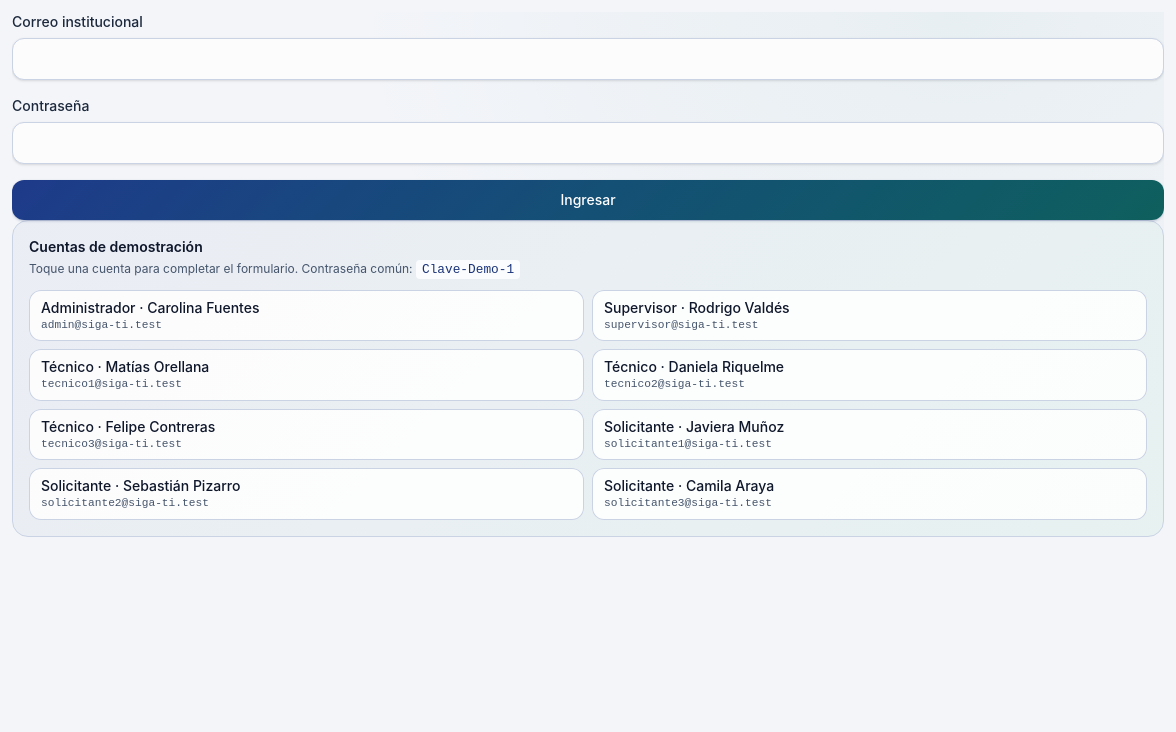
Scenario: cuentas de demostración › permite cambiar de cuenta y volver a elegir la misma
Click the button "Administrador · Carolina Fuentes admin@siga-ti.test" at (88, 308), box x1=29 y1=290 x2=584 y2=341
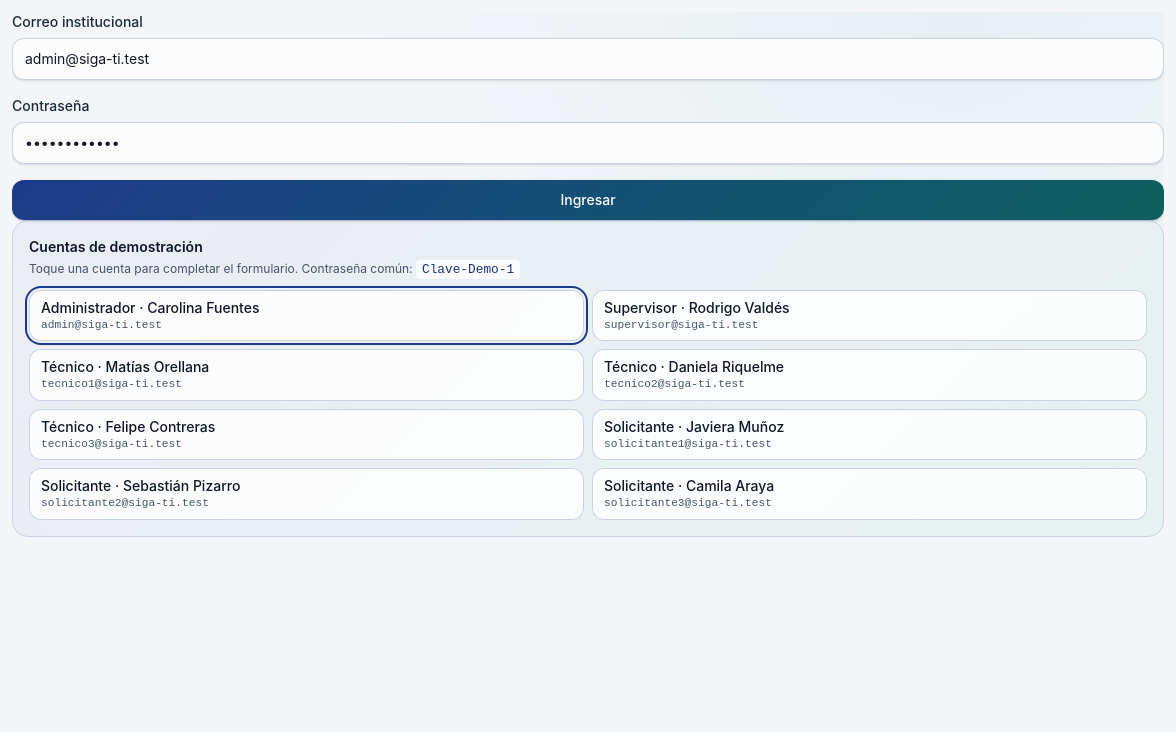
Click the button "Supervisor · Rodrigo Valdés supervisor@siga-ti.test" at (640, 308), box x1=592 y1=290 x2=1147 y2=341
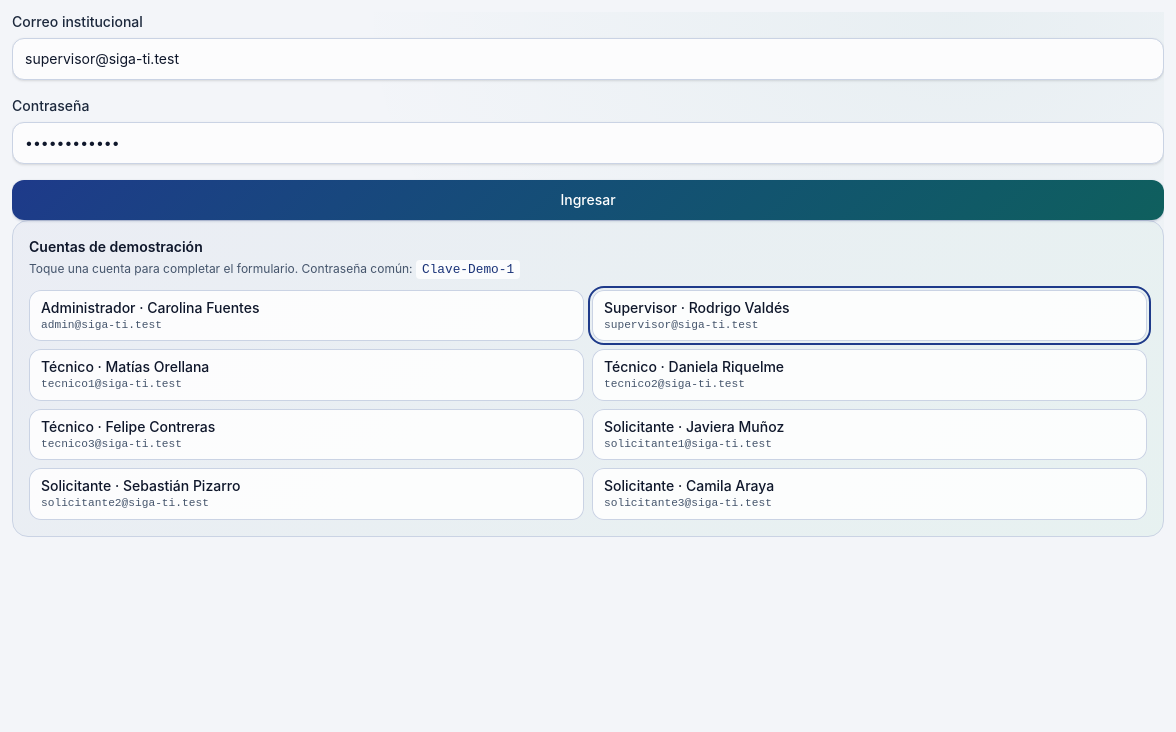
expect the field labelled "Correo institucional" holds "supervisor@siga-ti.test": met
Clear the field labelled "Correo institucional" at (588, 59), box x1=12 y1=38 x2=1164 y2=80
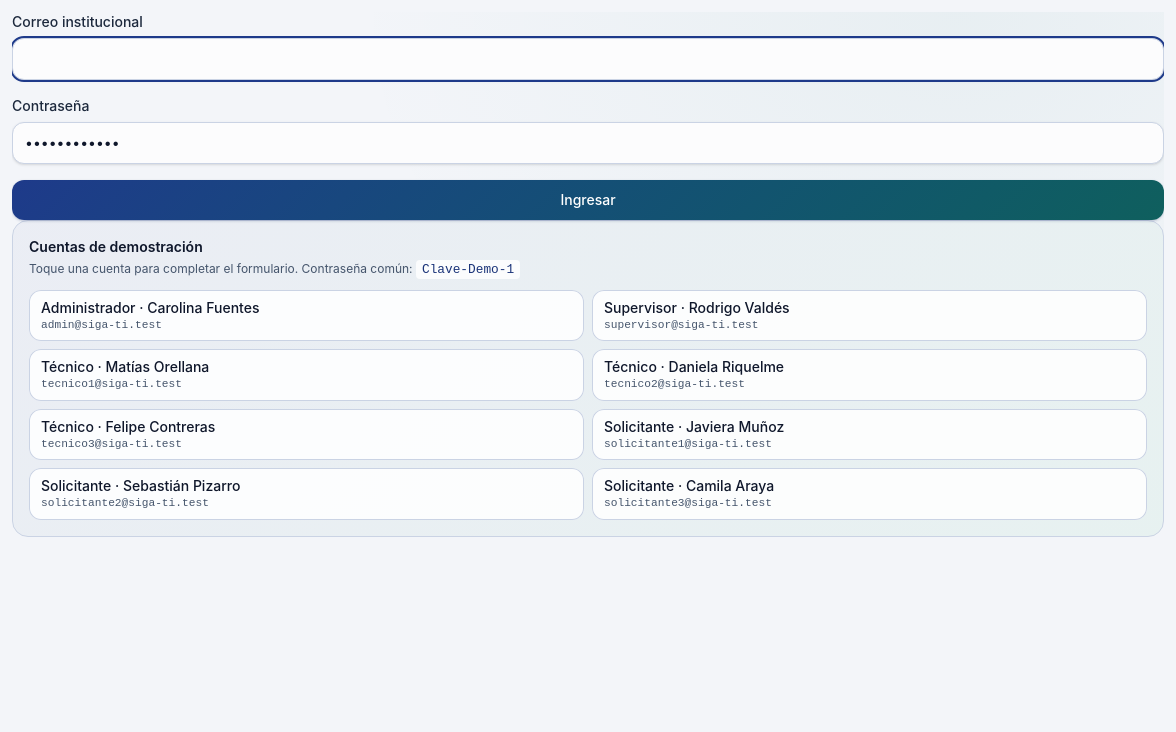
Click the button "Supervisor · Rodrigo Valdés supervisor@siga-ti.test" at (640, 308), box x1=592 y1=290 x2=1147 y2=341
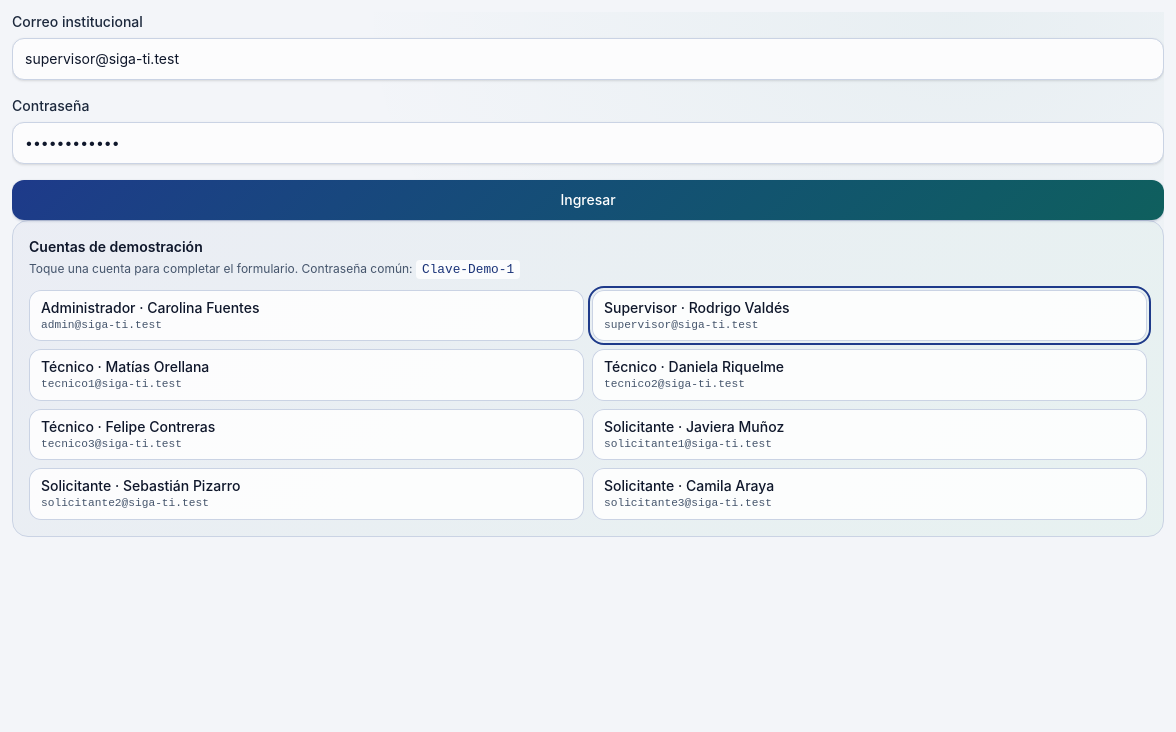
expect the field labelled "Correo institucional" holds "supervisor@siga-ti.test": met, box x1=12 y1=38 x2=1164 y2=80
